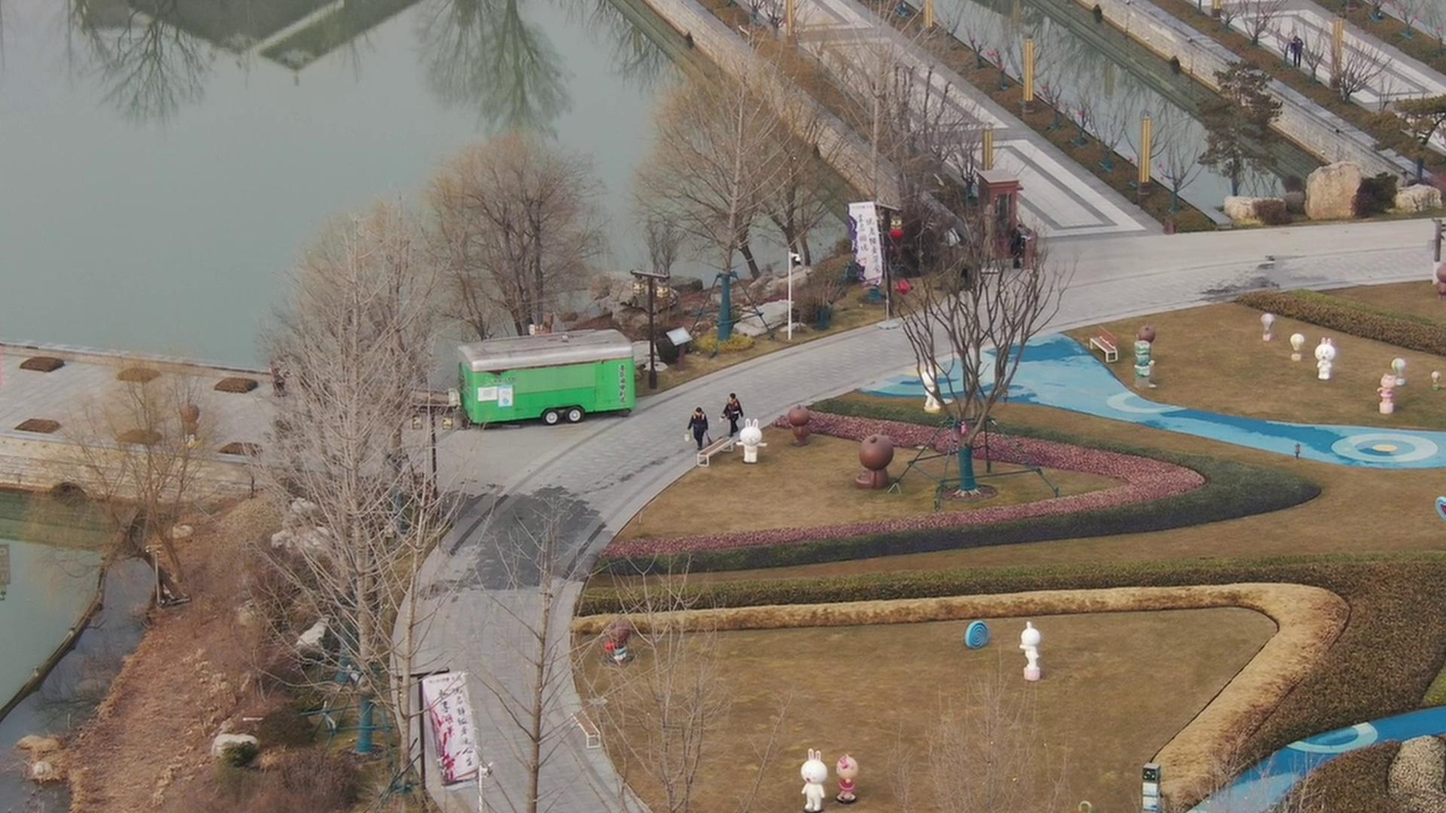human: (681, 397, 710, 449), (716, 383, 746, 433)
